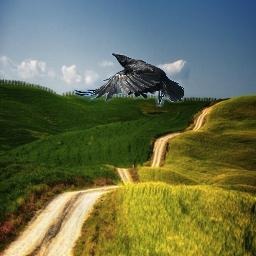Crow: (71, 52, 184, 107)
